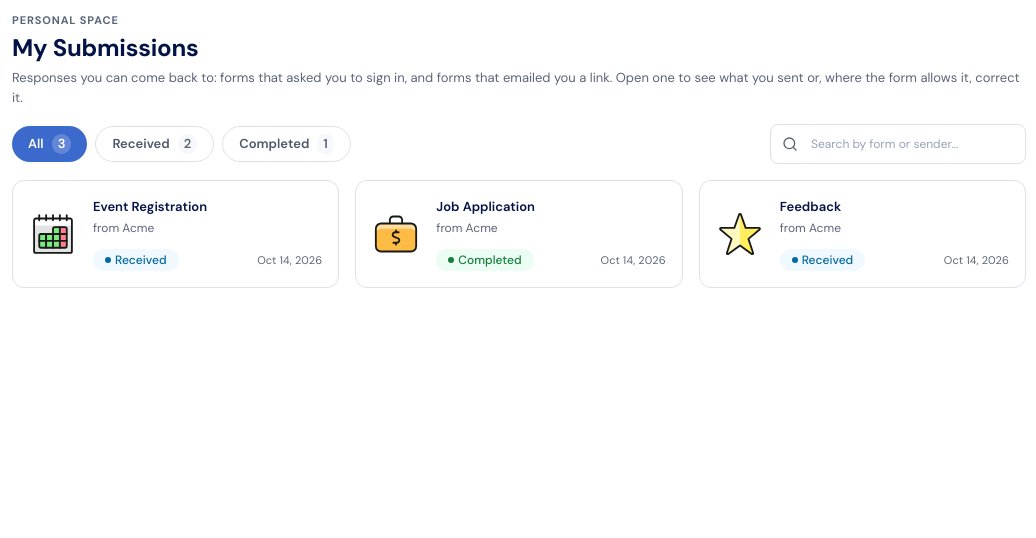
Scenario: MySubmissionsPage › filters by status chip (with counts) and by search
Expected: the link "Event Registration" is shown, [93, 198, 207, 215]
Click the button "Completed 1".
click(286, 144)  # box [222, 126, 351, 162]
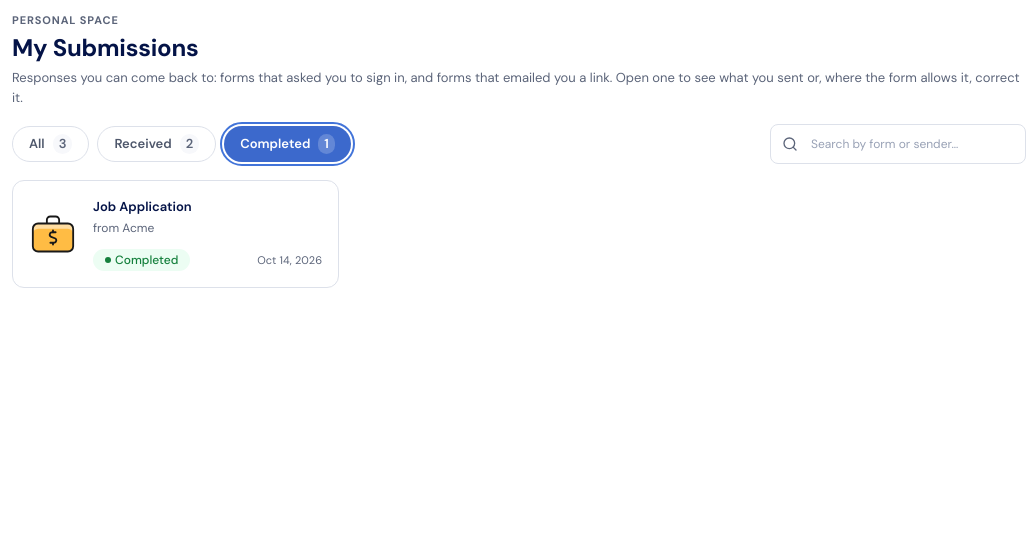
Expected: the link "Job Application" is shown, [93, 198, 192, 215]
Expected: the link "Event Registration" is gone
Click the button "All 3".
click(51, 144)  # box [12, 126, 90, 162]
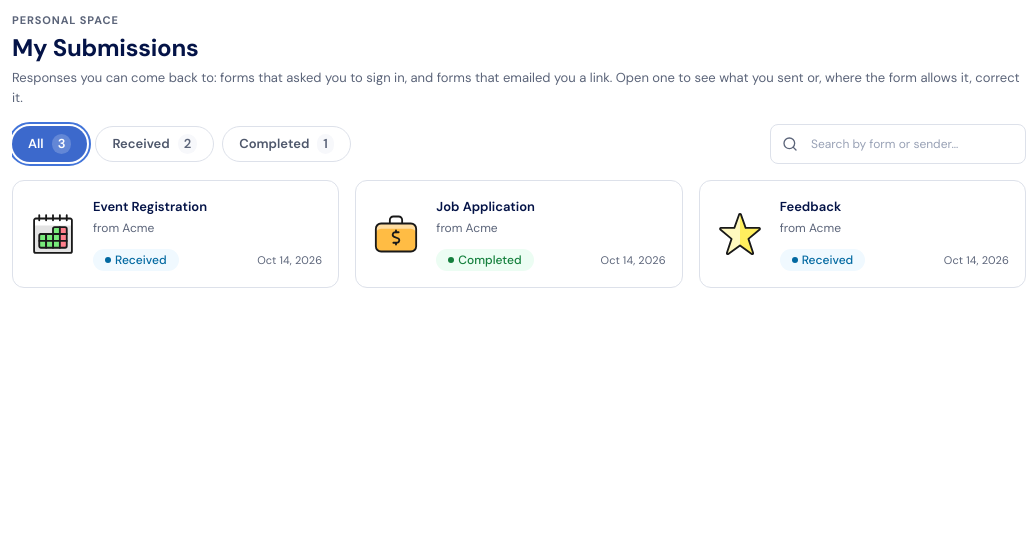
Type "feed" into the field named "Search your submissions".
click(898, 144); type("feed")  # box [770, 124, 1026, 164]
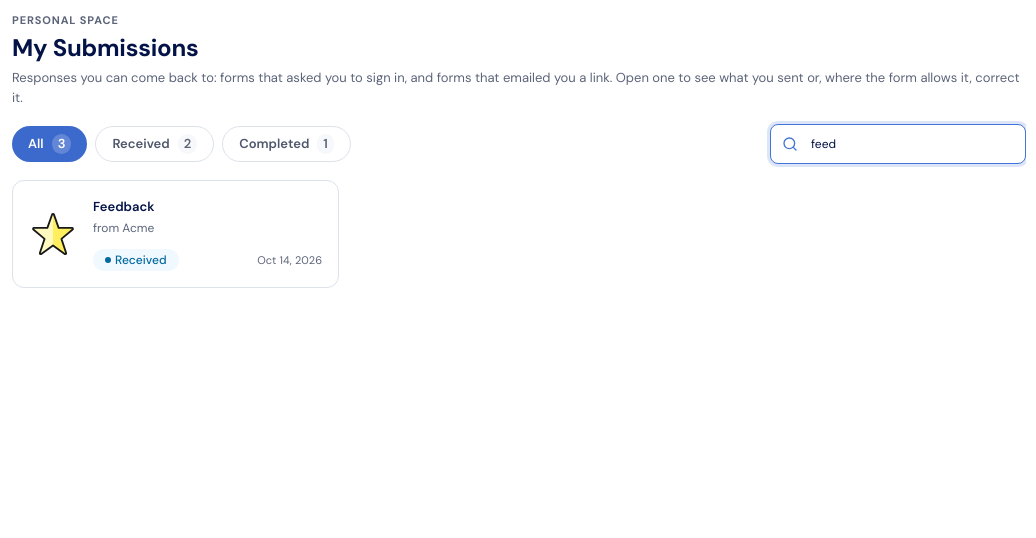
Expected: the link "Feedback" is shown, [93, 198, 154, 215]
Expected: the link "Job Application" is gone
Replace the text in the field named "Search your submissions" with "zzz" at (898, 144), box [770, 124, 1026, 164]
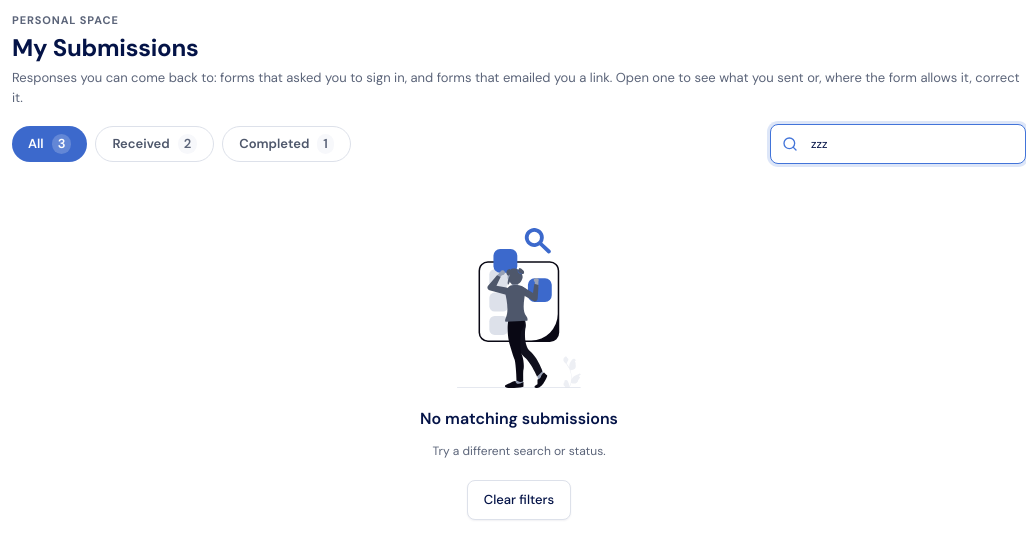
Expected: the heading "No matching submissions" is shown, [420, 408, 618, 430]
Click the button "Clear filters".
click(519, 500)  # box [467, 480, 571, 520]
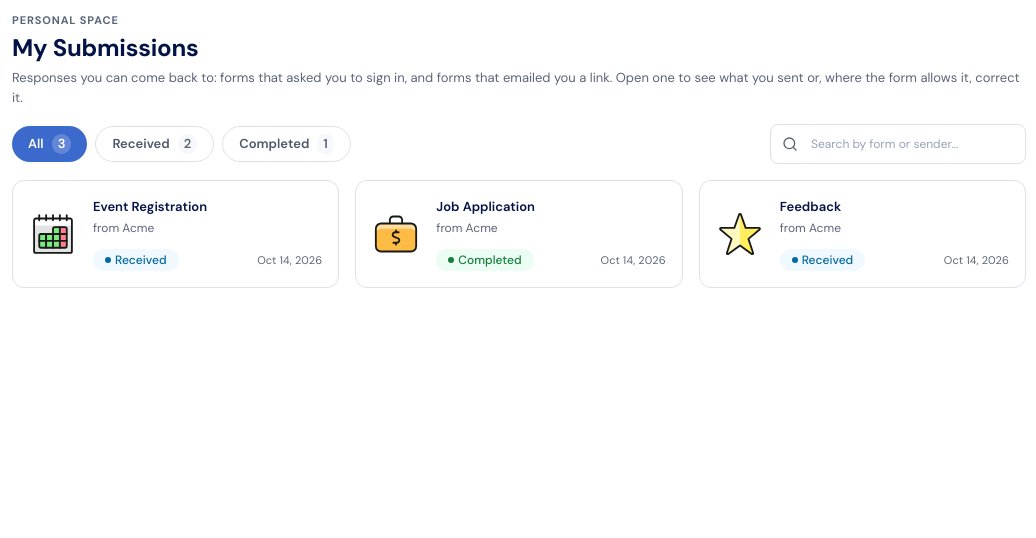
Expected: the link "Event Registration" is shown, [93, 198, 207, 215]
